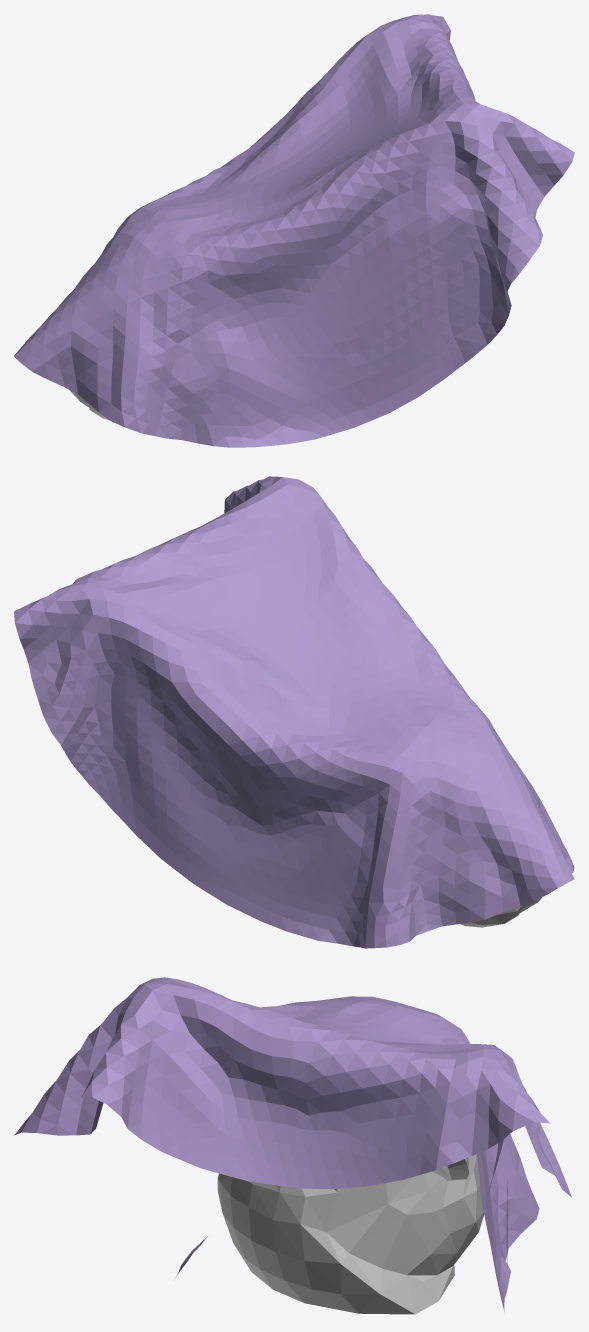
File: level_1.glb
3 views of the same model, one above another, from view 1: azimuth 30°, elevation 25°; view 2: azimuth 150°, elevation 25°; view 3: azimuth 270°, elevation 25° (orthographic). The views are drawn at different scales.
Parts seen in each view (by area): view 1: world; view 2: world, object.obj; view 3: world, object.obj.
Part boxes in pixels (x1,y1,x2,y2): world: (14, 14, 574, 447); world: (14, 476, 574, 948); object.obj: (443, 897, 541, 927); world: (14, 977, 571, 1311); object.obj: (217, 1154, 484, 1314).
Bounding box in the file's own units: 0.4875 × 0.2932 × 0.3819.
